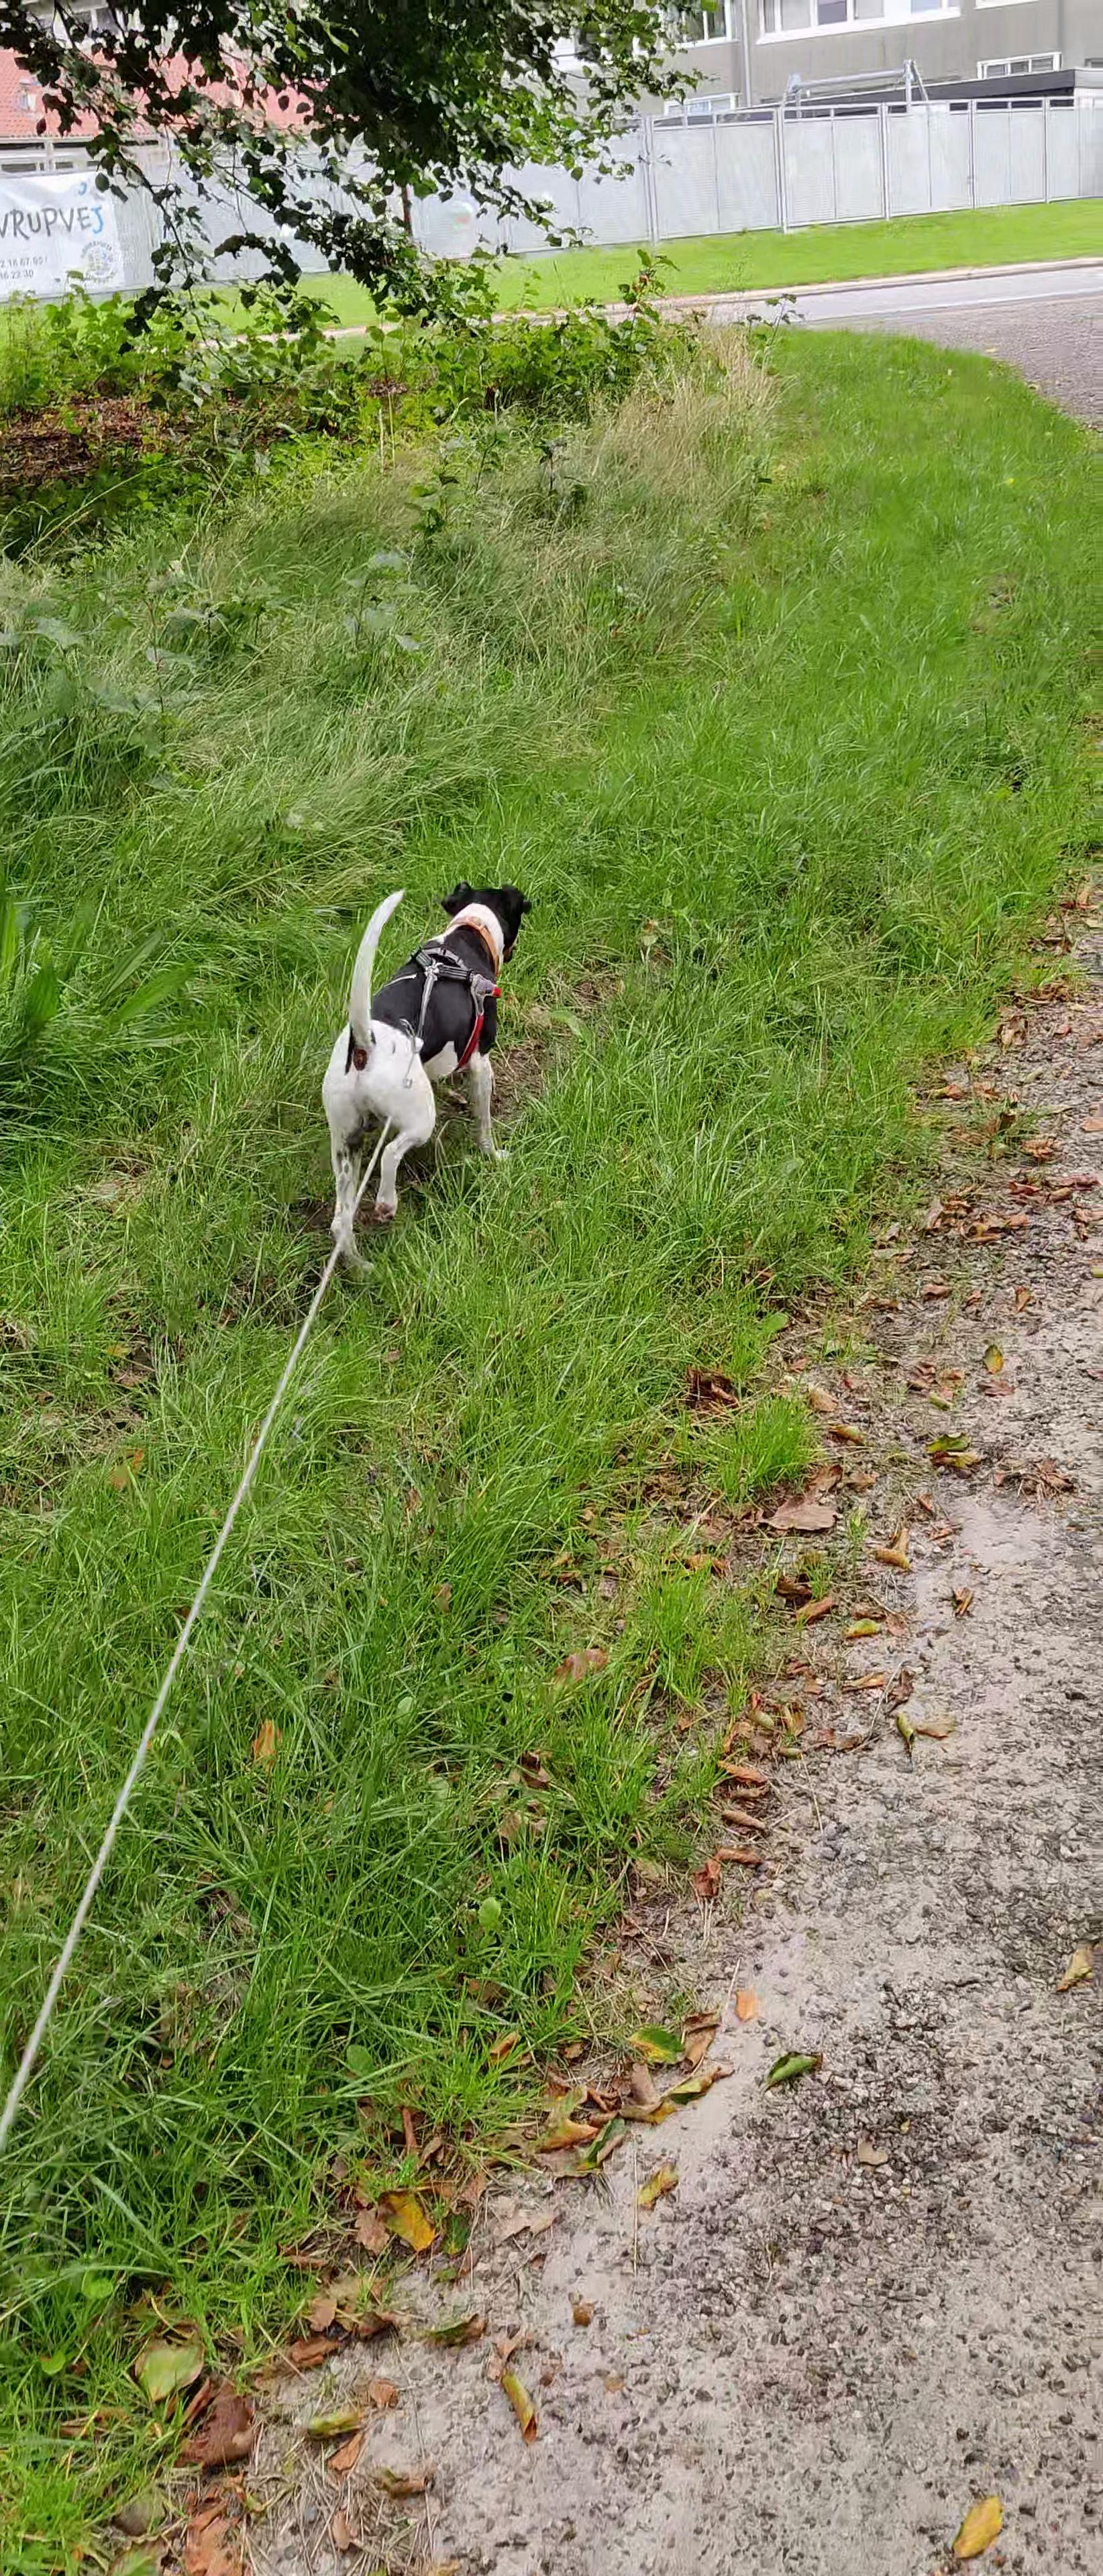Dog: (293, 876, 549, 1276)
